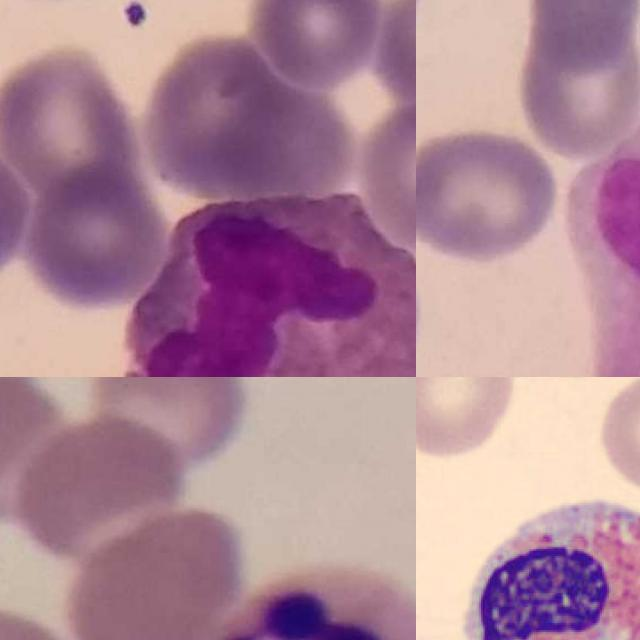Eosinophil: (126, 196, 416, 377), (449, 474, 640, 640)
Monocyte: (563, 91, 640, 377)
Neutrophil: (198, 560, 416, 640)
RBC: (416, 377, 522, 464), (593, 377, 640, 496)
